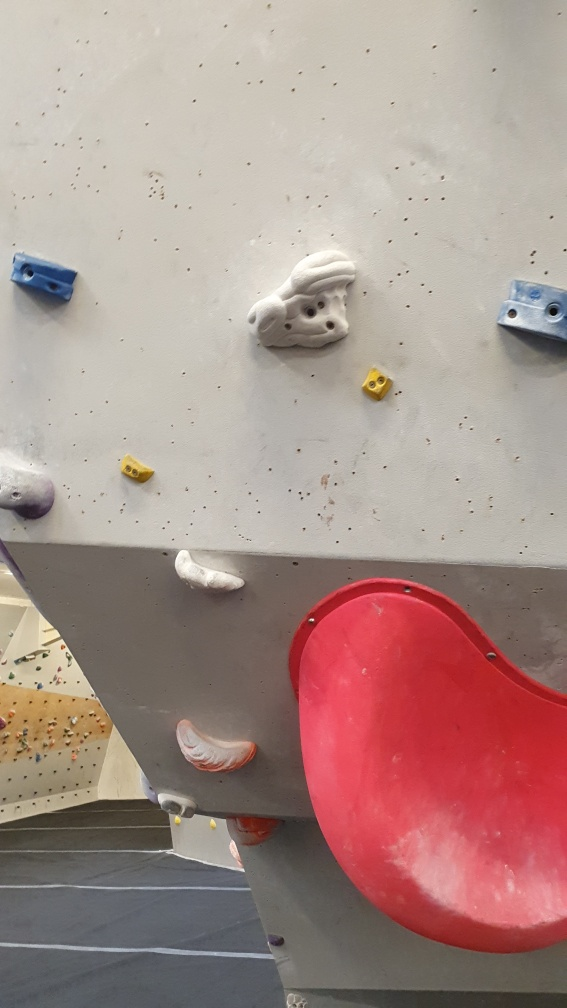Crimp: (117, 448, 162, 485)
Jug: (244, 247, 362, 357), (169, 716, 261, 780), (166, 542, 251, 596)
Pinch: (489, 270, 567, 346), (4, 250, 79, 304), (360, 364, 398, 407)
